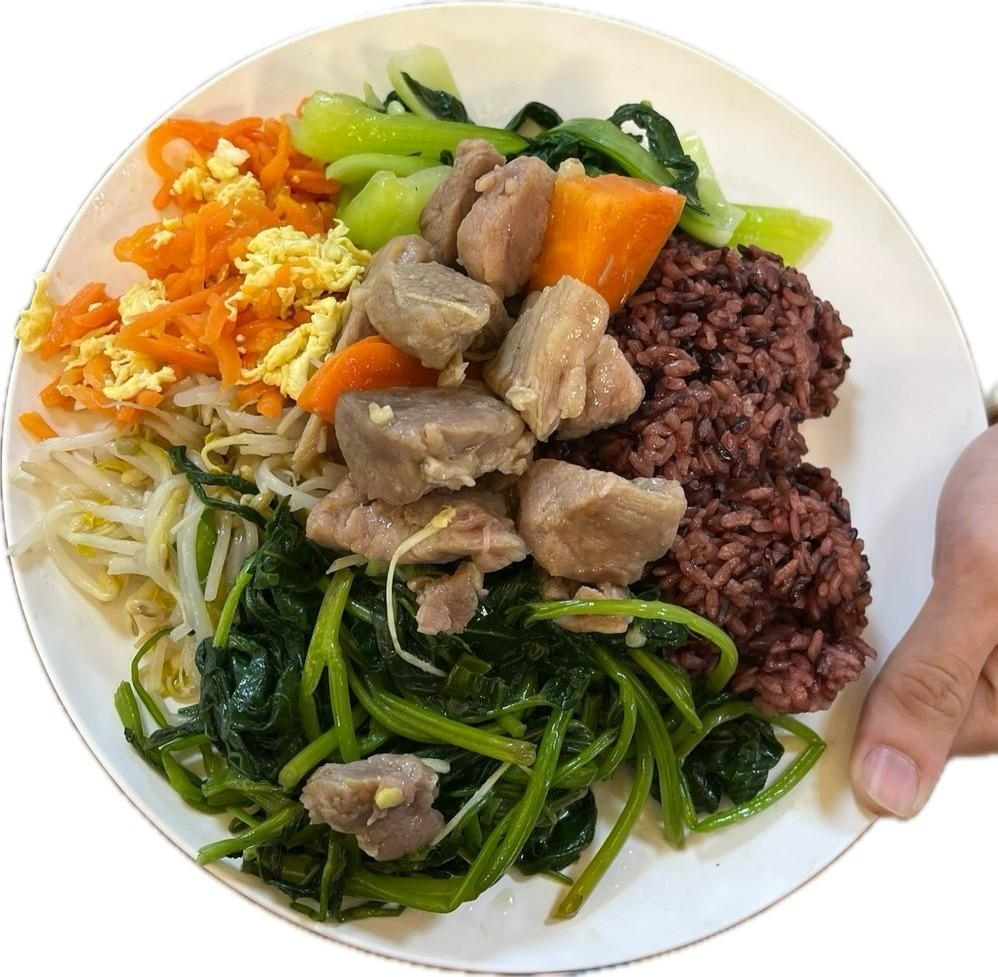big fried chicken leg: (6, 2, 998, 977)
braised fish: (607, 240, 872, 706)
braised fish fillet: (130, 471, 832, 933), (300, 58, 829, 276), (11, 100, 346, 429), (28, 386, 343, 695)
braised pork: (306, 154, 686, 626)
